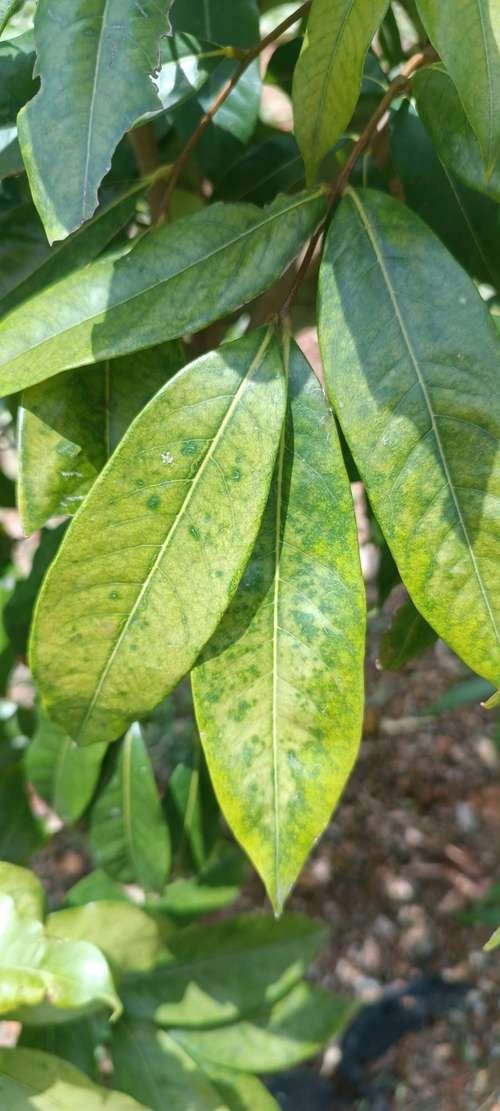Gall_Mite: (117, 409, 377, 813)
